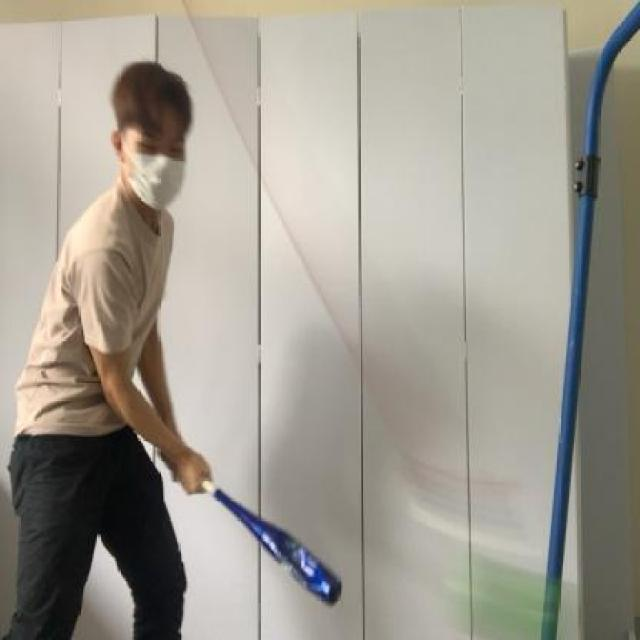baseball: (432, 552, 588, 639)
